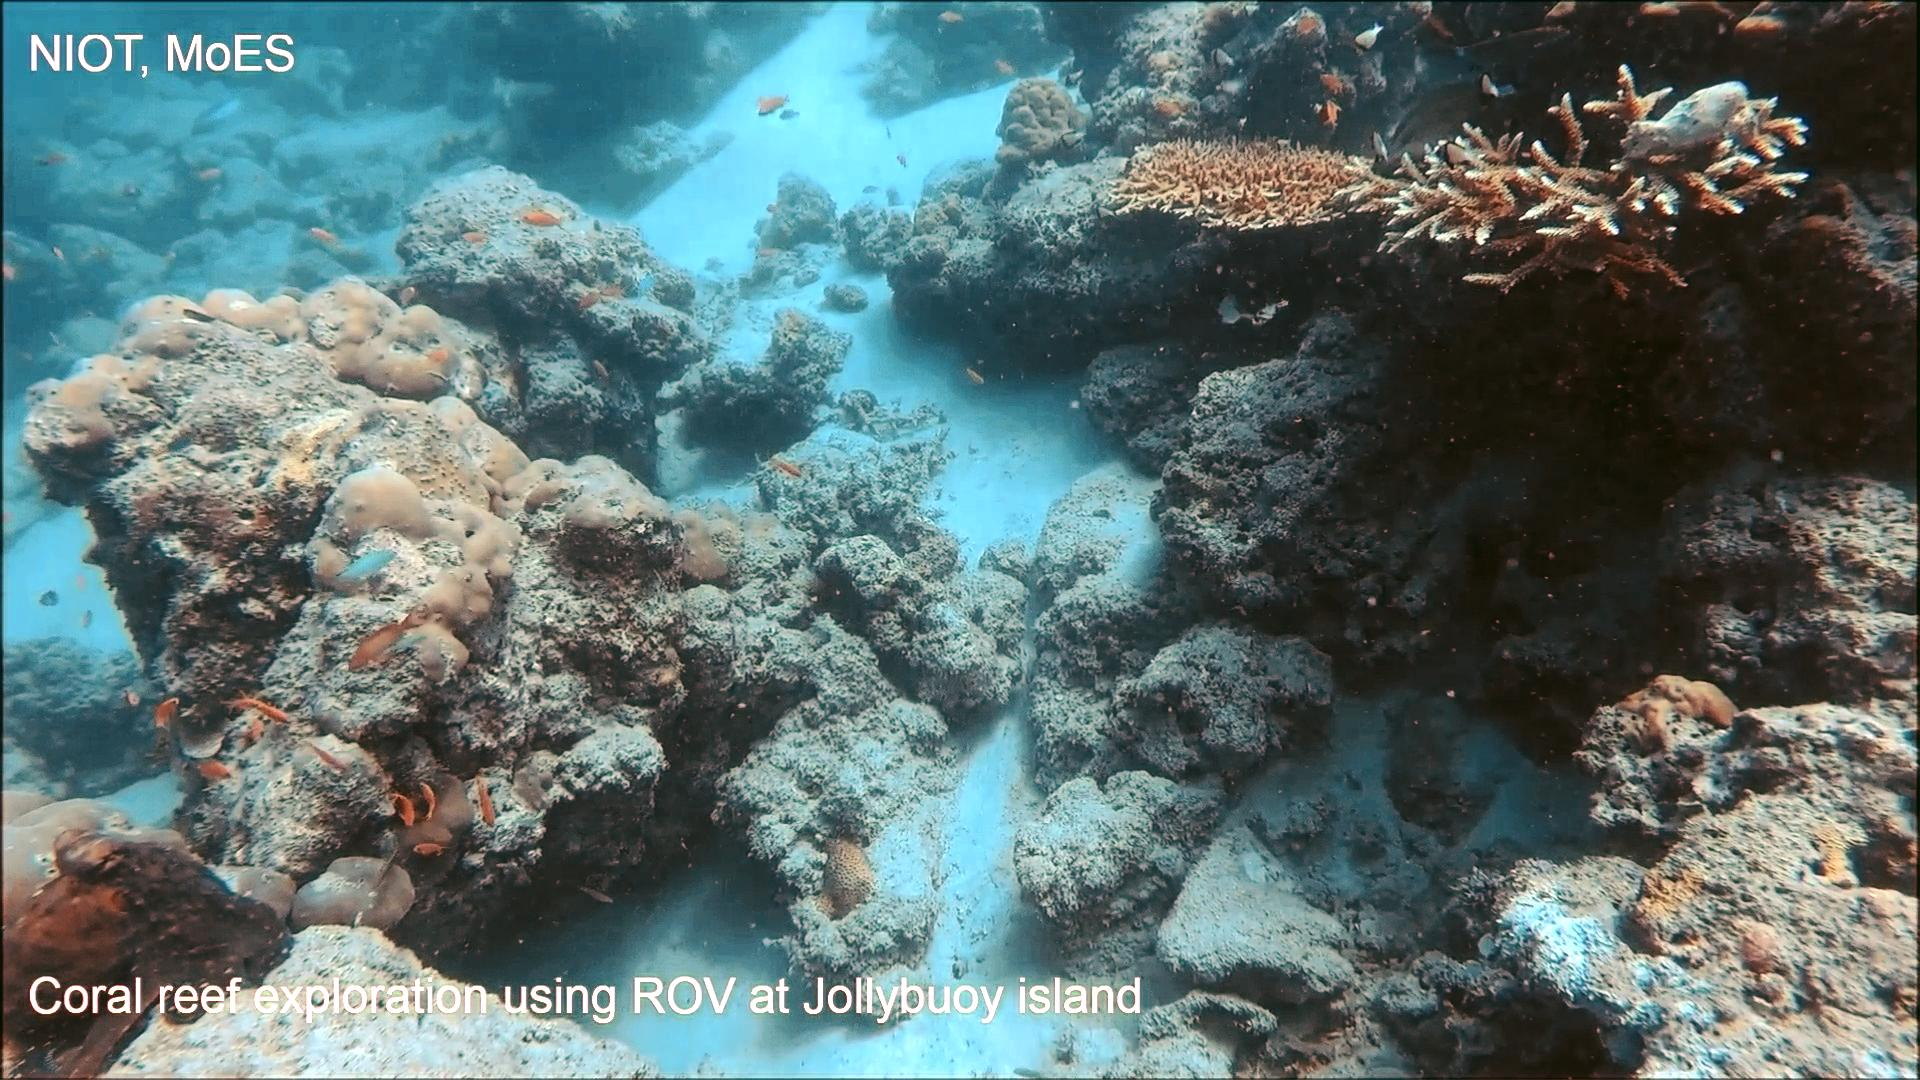Porites-Porites pukoensis: (273, 268, 575, 692)
